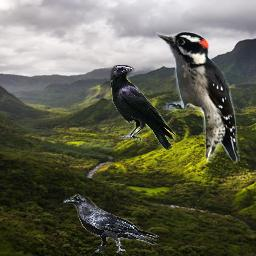Crow: (63, 194, 162, 254), (110, 65, 176, 151)
Woodpecker: (156, 31, 240, 162)
